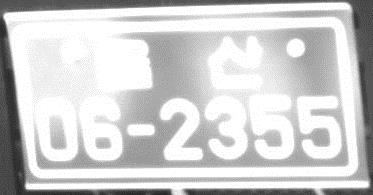-: (123, 120, 158, 139)
0: (33, 95, 79, 163)
2: (157, 97, 205, 161)
3: (204, 93, 250, 161)
5: (295, 92, 343, 161), (249, 92, 296, 161)
6: (77, 95, 125, 163)
울산_D: (92, 31, 268, 94)
